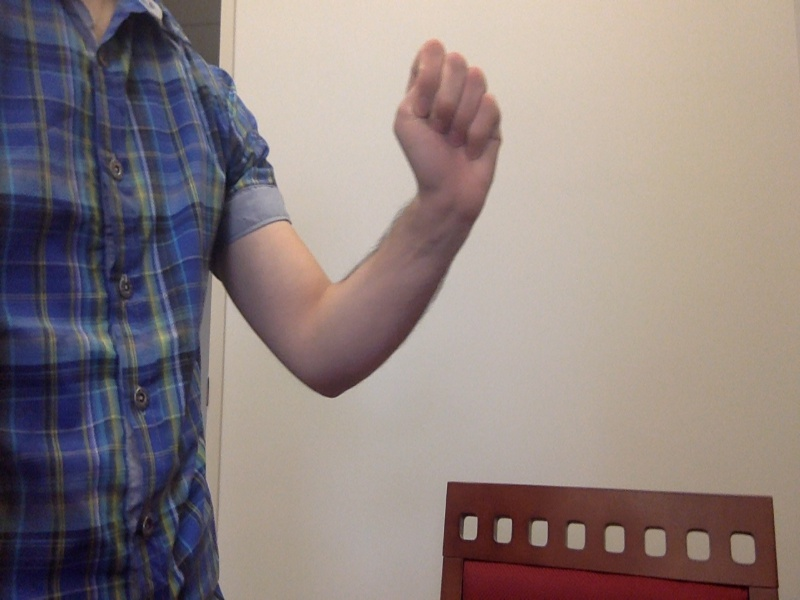0-hand: (397, 39, 513, 193)
